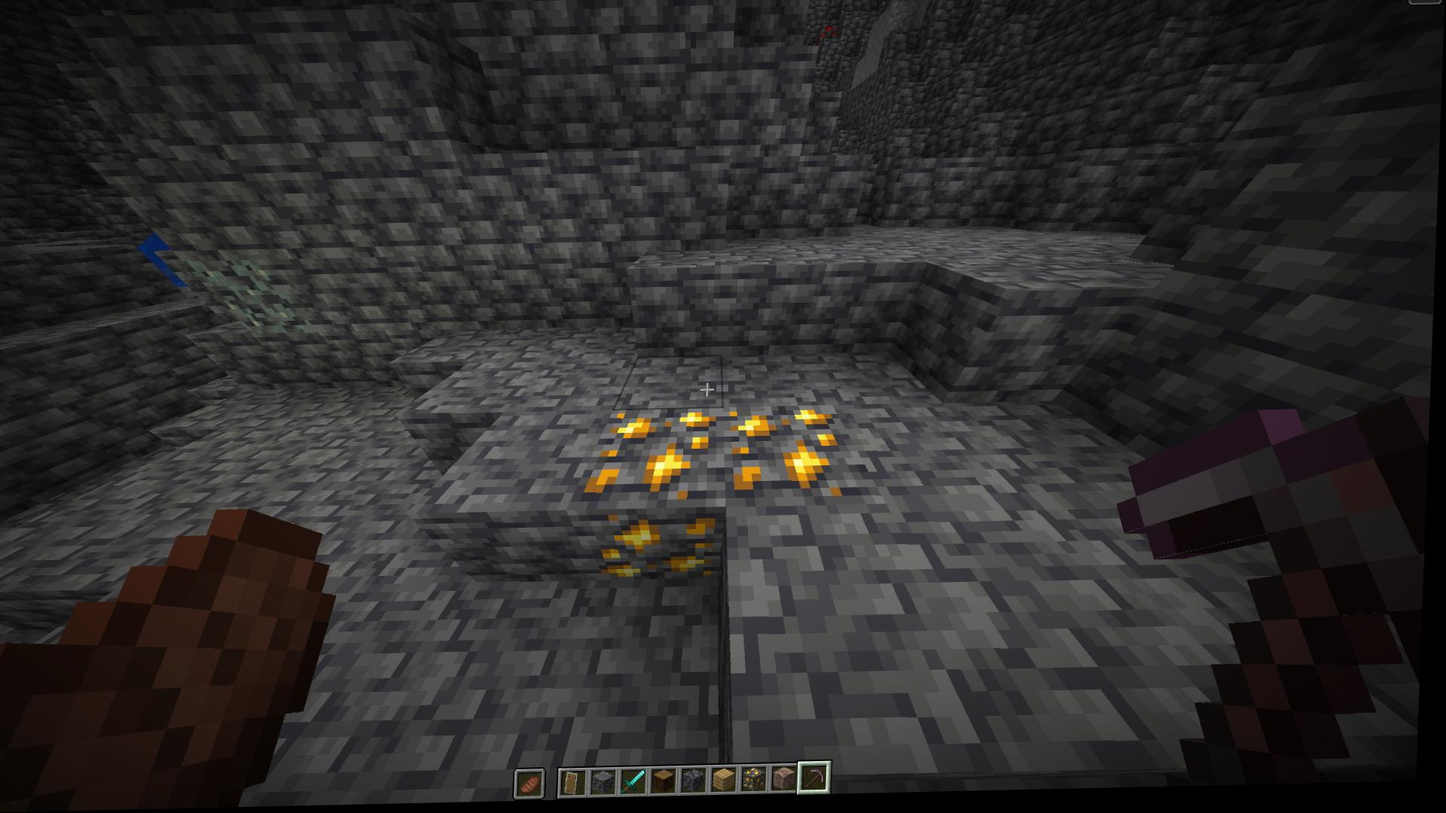gold ore: (586, 412, 722, 508), (723, 406, 857, 503), (595, 505, 725, 584)
redstone ore: (817, 25, 843, 47)
